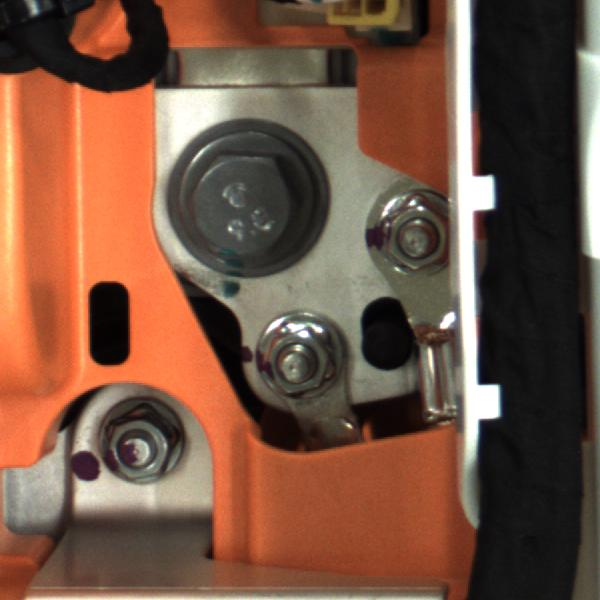nut_b: (176, 135, 323, 280)
screw_s: (254, 310, 344, 410), (92, 411, 183, 492), (368, 194, 448, 279)
